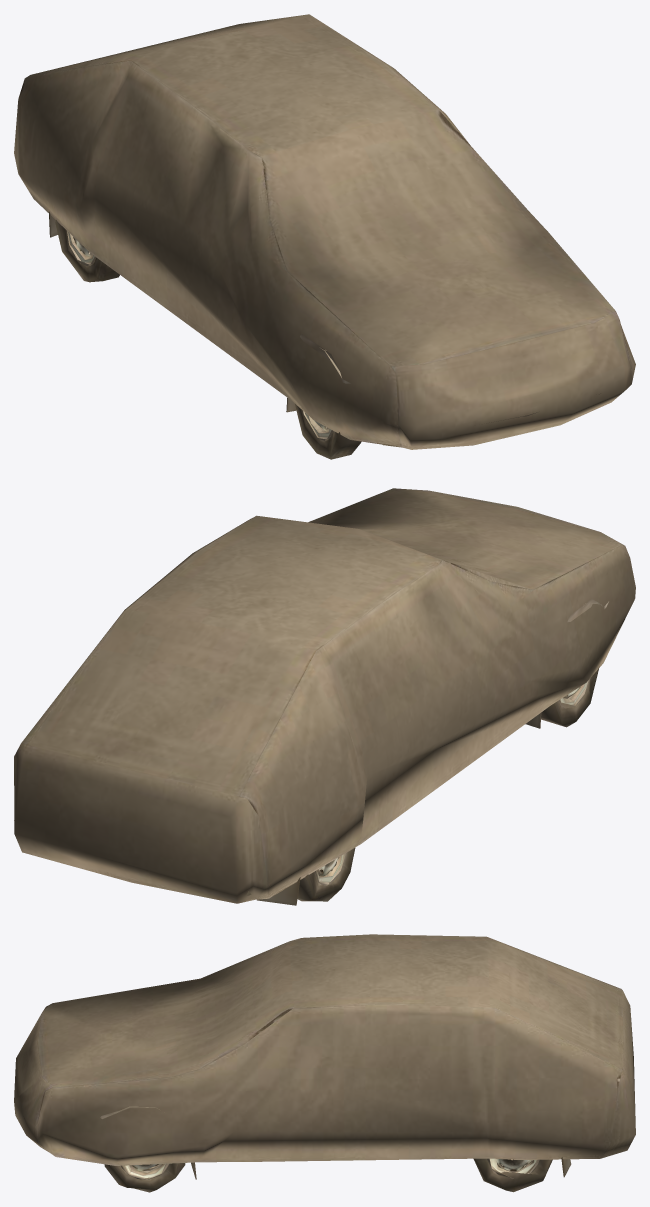
The model's file is covered_car.glb.
3 renders of one model, top to bottom at view 1: azimuth 30°, elevation 25°; view 2: azimuth 150°, elevation 25°; view 3: azimuth 270°, elevation 25°, orthographic. The views are drawn at different scales.
Visible parts, largest first — view 1: covered_car; view 2: covered_car; view 3: covered_car.
Boxes of the visible parts, x1=… form: covered_car: x1=14, y1=14, x2=635, y2=459; covered_car: x1=14, y1=488, x2=635, y2=905; covered_car: x1=14, y1=934, x2=635, y2=1192.
Bounding box in the file's own units: 1.79 × 1.41 × 4.35.
1 material, 1 textured.
